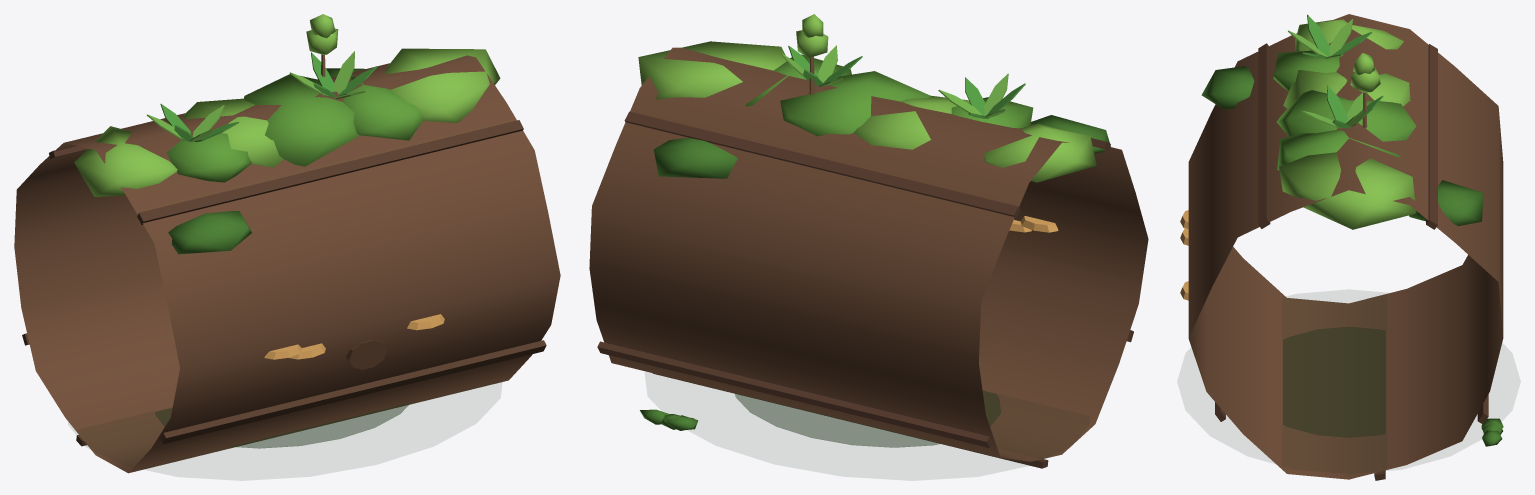
Rendered from fallen_trunk.glb.
3 views of the same model, side by side, from view 1: azimuth 30°, elevation 25°; view 2: azimuth 150°, elevation 25°; view 3: azimuth 270°, elevation 25° (orthographic). The views are drawn at different scales.
Visible parts, largest first — view 1: fallen_trunk; view 2: fallen_trunk; view 3: fallen_trunk.
Boxes of the visible parts, x1,y1,x2,y2 form: fallen_trunk: (14, 14, 560, 473); fallen_trunk: (589, 14, 1148, 468); fallen_trunk: (1180, 14, 1503, 480).
Size of the model in its own units: 4.46 by 3.82 by 3.3.
